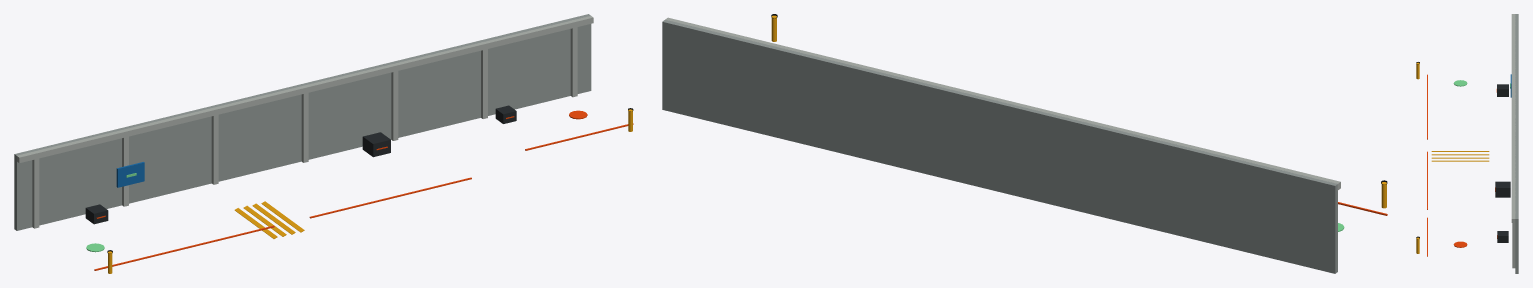
The model's file is central_belt_stage01_demo_field_v1.obj.
3 views of the same model, side by side, from view 1: azimuth 30°, elevation 25°; view 2: azimuth 150°, elevation 25°; view 3: azimuth 270°, elevation 25° (orthographic). The views are drawn at different scales.
Parts seen in each view (by area): view 1: VIS_BACKGROUND_WALL, VIS_WALL_BEAM_TOP, VIS_SERVICE_CRATE_02, VIS_OPERATION_PANEL, VIS_WALL_COLUMN__00, VIS_WALL_COLUMN__15, VIS_WALL_COLUMN__05, VIS_WALL_COLUMN_-15, VIS_WALL_COLUMN_-05, VIS_WALL_COLUMN__10, VIS_SAFE_EDGE_01, VIS_SAFE_EDGE_02 (+1 smaller); view 2: VIS_BACKGROUND_WALL, VIS_WALL_BEAM_TOP; view 3: VIS_BACKGROUND_WALL, VIS_WALL_BEAM_TOP, VIS_SERVICE_CRATE_02, VIS_WALL_COLUMN__15, VIS_SERVICE_CRATE_01, VIS_SERVICE_CRATE_03, VIS_GAP_HAZARD_-4_25, VIS_GAP_HAZARD_-3_75, VIS_GAP_HAZARD_-3_25, MARKER_PLAYER_SPAWN, MARKER_GOAL.
Part boxes in pixels (bbox=[...]): VIS_BACKGROUND_WALL: bbox=[14, 14, 591, 230]; VIS_WALL_BEAM_TOP: bbox=[17, 16, 593, 163]; VIS_SERVICE_CRATE_02: bbox=[362, 132, 390, 157]; VIS_OPERATION_PANEL: bbox=[116, 162, 144, 187]; VIS_WALL_COLUMN__00: bbox=[301, 85, 308, 162]; VIS_WALL_COLUMN__15: bbox=[570, 19, 577, 97]; VIS_WALL_COLUMN__05: bbox=[391, 63, 398, 140]; VIS_WALL_COLUMN_-15: bbox=[32, 151, 39, 228]; VIS_WALL_COLUMN_-05: bbox=[211, 107, 218, 184]; VIS_WALL_COLUMN__10: bbox=[481, 41, 487, 118]; VIS_SAFE_EDGE_01: bbox=[94, 225, 274, 270]; VIS_SAFE_EDGE_02: bbox=[309, 177, 471, 218]; VIS_BACKGROUND_WALL: bbox=[662, 19, 1337, 273]; VIS_WALL_BEAM_TOP: bbox=[665, 17, 1340, 190]; VIS_BACKGROUND_WALL: bbox=[1515, 14, 1518, 273]; VIS_WALL_BEAM_TOP: bbox=[1511, 14, 1515, 222]; VIS_SERVICE_CRATE_02: bbox=[1495, 181, 1510, 197]; VIS_WALL_COLUMN__15: bbox=[1512, 211, 1515, 268]; VIS_SERVICE_CRATE_01: bbox=[1497, 84, 1508, 96]; VIS_SERVICE_CRATE_03: bbox=[1497, 231, 1508, 242]; VIS_GAP_HAZARD_-4_25: bbox=[1431, 154, 1489, 155]; VIS_GAP_HAZARD_-3_75: bbox=[1431, 157, 1489, 158]; VIS_GAP_HAZARD_-3_25: bbox=[1431, 160, 1489, 161]; MARKER_PLAYER_SPAWN: bbox=[1453, 80, 1467, 86]; MARKER_GOAL: bbox=[1453, 241, 1467, 247].
Size of what is drawn, in the model's own units: 32 by 4.82 by 6.77.
